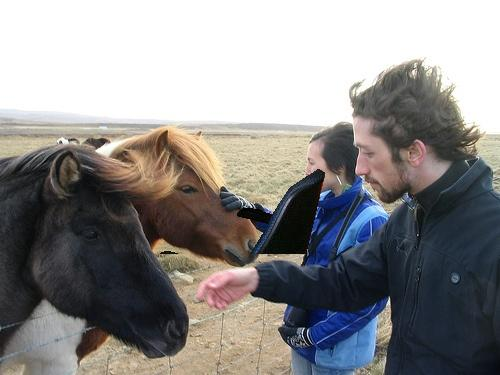tampered: (160, 170, 325, 254)
